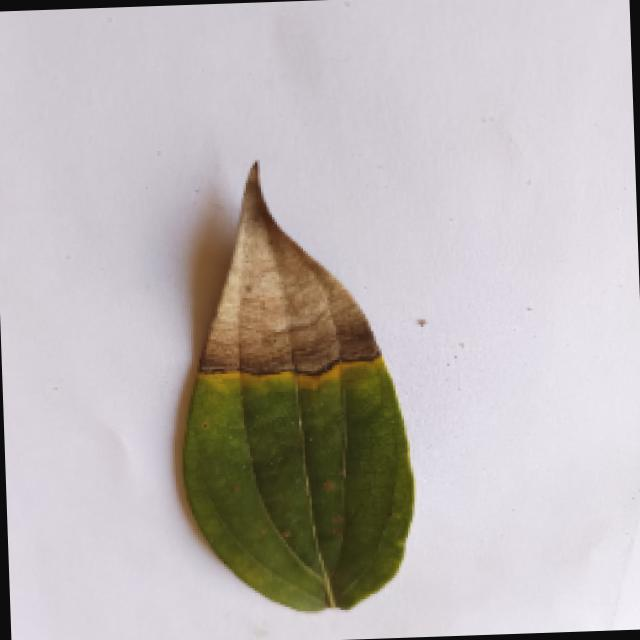footrot: (162, 157, 423, 625)
